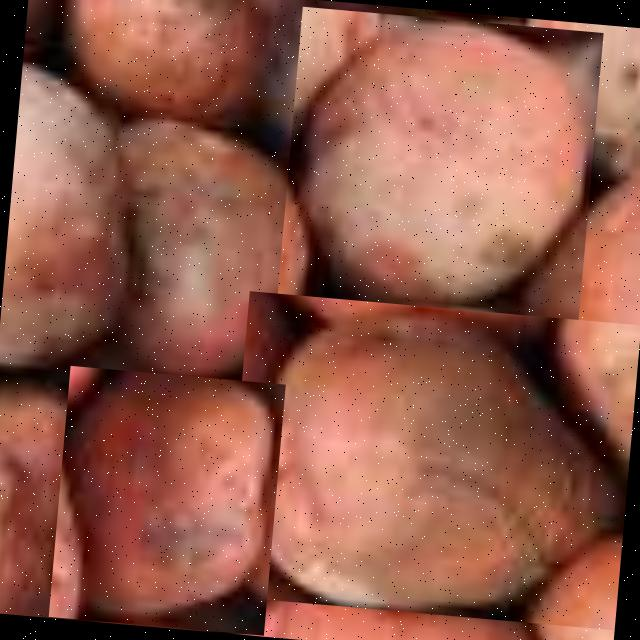Defected potato: (48, 364, 284, 634)
Diseased-fungal potato: (222, 289, 640, 628), (276, 6, 602, 324)
